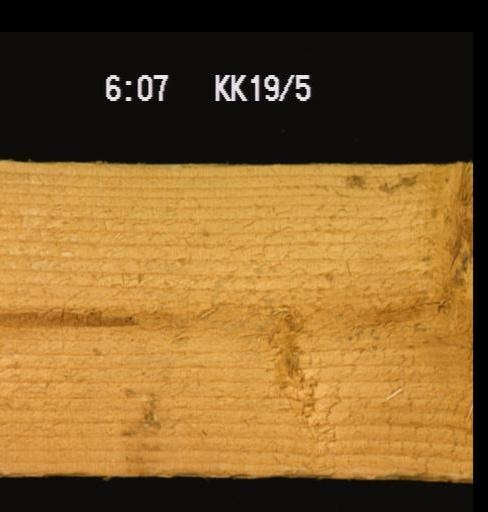small_knot: (266, 300, 307, 338)
